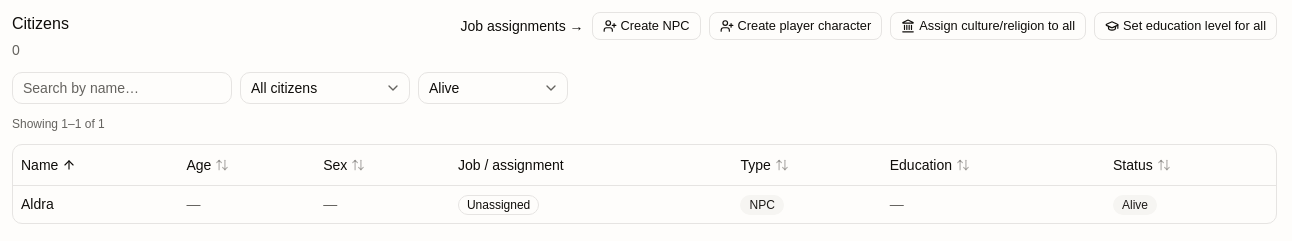
Test: CitizensPanel › filters by name search and citizen type
The image size is (1292, 241).
Expected: the text "Aldra" is shown, [21,194,54,214]
In the field named "Search citizens by name": (122,88) [12,72,232,104], type "Ald"
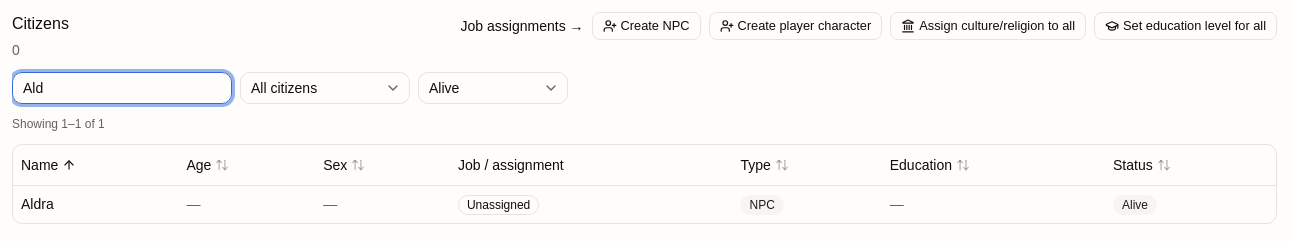
Click the dropdown named "Filter by type": (325,88) [240,72,410,104]
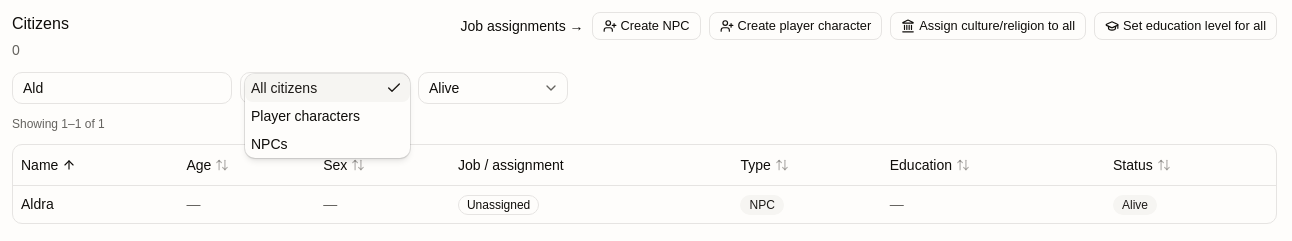
Click the option "Player characters": (305,116) [251,108,360,124]
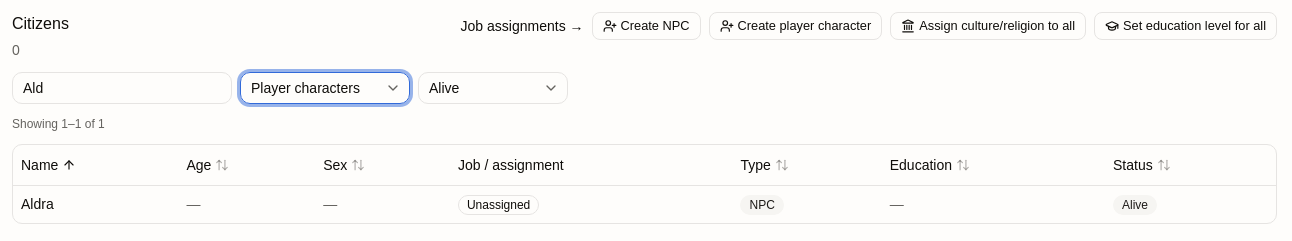
Expected: the dropdown named "Filter by type" reads "Player characters", [240,72,410,104]
